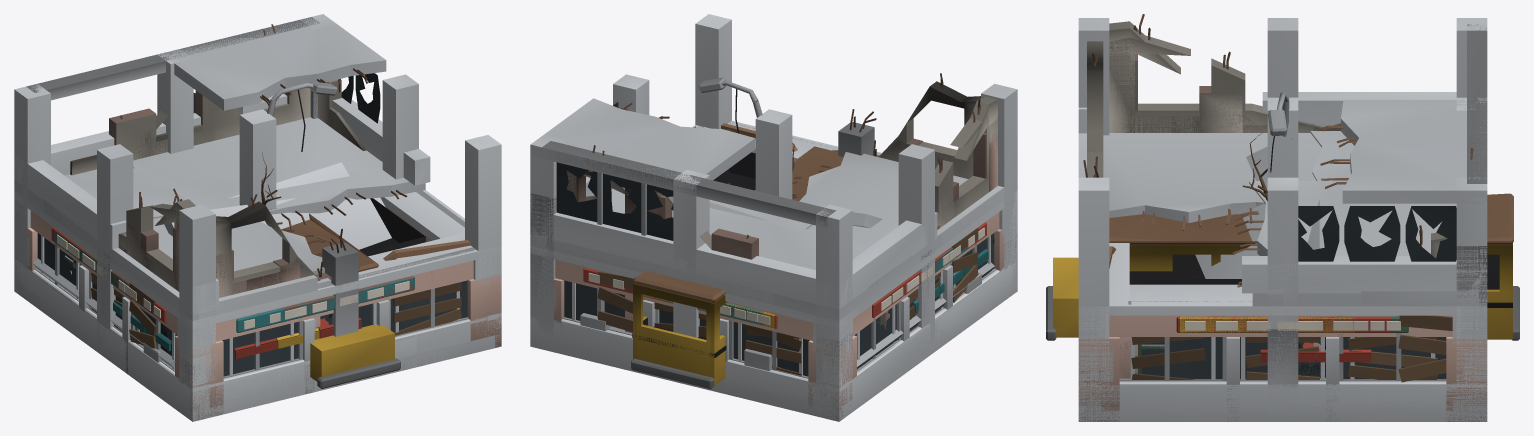
Rendered from kit.glb.
3 renders of one model, left to right at view 1: azimuth 30°, elevation 25°; view 2: azimuth 150°, elevation 25°; view 3: azimuth 270°, elevation 25°, orthographic. The views are drawn at different scales.
Visible parts, largest first — view 1: Office_Ruin, Office_Ruin2, Brick_Shop, Office_Floor, Conc_Ruin2, Conc_Ruin, Office_Lobby, Brick_Ruin, Bus_Wreck, Brick_Roof, Conc_Floor, Office_Roof (+5 smaller); view 2: Office_Ruin, Office_Ruin2, Office_Floor, Conc_Ruin2, Brick_Shop, Bus_Wreck, Conc_Ruin, Conc_Floor, Office_Lobby, Brick_Ruin, Brick_Roof, Brick_Floor (+6 smaller); view 3: Office_Ruin2, Office_Ruin, Conc_Ruin2, Office_Floor, Brick_Shop, Bus_Wreck, Conc_Ruin, Conc_Floor, Office_Lobby, Brick_Roof, Brick_Floor, Brick_Ruin (+5 smaller).
Boxes of the visible parts, x1,y1,x2,y2 form: Office_Ruin: [14, 17, 470, 412]; Office_Ruin2: [14, 14, 501, 411]; Brick_Shop: [15, 190, 501, 420]; Office_Floor: [14, 190, 501, 420]; Conc_Ruin2: [116, 188, 359, 319]; Conc_Ruin: [18, 24, 495, 410]; Office_Lobby: [14, 190, 501, 393]; Brick_Ruin: [70, 87, 331, 331]; Bus_Wreck: [281, 213, 400, 388]; Brick_Roof: [14, 259, 500, 421]; Conc_Floor: [14, 235, 501, 420]; Office_Roof: [14, 269, 192, 419]; Office_Ruin: [530, 83, 1017, 416]; Office_Ruin2: [530, 14, 1017, 413]; Office_Floor: [530, 122, 1017, 419]; Conc_Ruin2: [792, 73, 1004, 245]; Brick_Shop: [530, 121, 1017, 421]; Bus_Wreck: [631, 146, 843, 388]; Conc_Ruin: [555, 104, 1004, 416]; Conc_Floor: [530, 196, 1017, 420]; Office_Lobby: [530, 121, 1017, 367]; Brick_Ruin: [566, 127, 1017, 413]; Brick_Roof: [530, 264, 1017, 421]; Brick_Floor: [531, 152, 1017, 415]; Office_Ruin2: [1078, 97, 1487, 416]; Office_Ruin: [1078, 18, 1487, 416]; Conc_Ruin2: [1078, 14, 1321, 230]; Office_Floor: [1078, 279, 1487, 421]; Brick_Shop: [1078, 243, 1487, 421]; Bus_Wreck: [1046, 193, 1519, 340]; Conc_Ruin: [1109, 25, 1478, 421]; Conc_Floor: [1078, 306, 1487, 421]; Office_Lobby: [1079, 243, 1486, 421]; Brick_Roof: [1078, 381, 1487, 421]; Brick_Floor: [1078, 279, 1487, 415]; Brick_Ruin: [1078, 46, 1487, 414].
Size of the model in its own units: 4 by 2.79 by 4.64.
